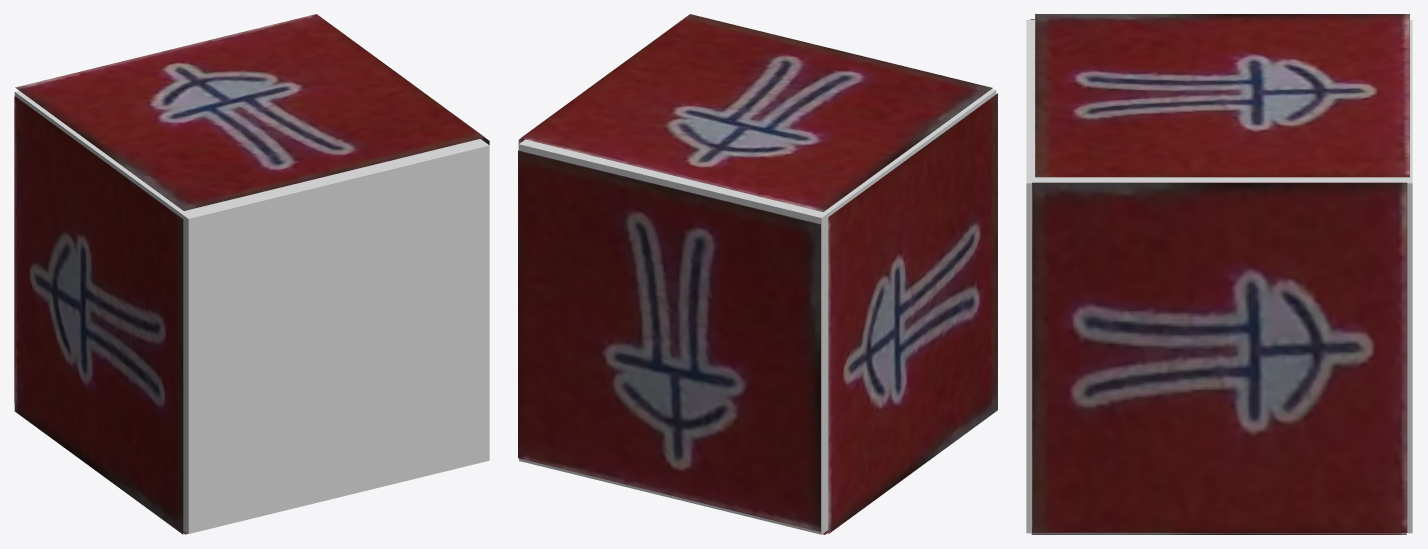
3 renders of one model, left to right at view 1: azimuth 30°, elevation 25°; view 2: azimuth 150°, elevation 25°; view 3: azimuth 270°, elevation 25°, orthographic. The views are drawn at different scales.
Visible parts, largest first — view 1: Link25, R1.002, R1.003; view 2: R1.005, R1.002, R1.003, Link25; view 3: R1.004, R1.003, Link25, R1.001.
Boxes of the visible parts, x1=… form: Link25: x1=14, y1=90, x2=489, y2=533; R1.002: x1=14, y1=96, x2=183, y2=534; R1.003: x1=15, y1=14, x2=484, y2=210; R1.005: x1=518, y1=150, x2=820, y2=531; R1.002: x1=828, y1=93, x2=997, y2=533; R1.003: x1=521, y1=14, x2=992, y2=211; Link25: x1=519, y1=89, x2=996, y2=534; R1.004: x1=1032, y1=182, x2=1407, y2=532; R1.003: x1=1035, y1=14, x2=1409, y2=177; Link25: x1=1026, y1=20, x2=1412, y2=533; R1.001: x1=1031, y1=533, x2=1406, y2=534.
Bounding box in the file's own units: 0.3569 × 0.3509 × 0.3578.
1 material, 1 textured.
